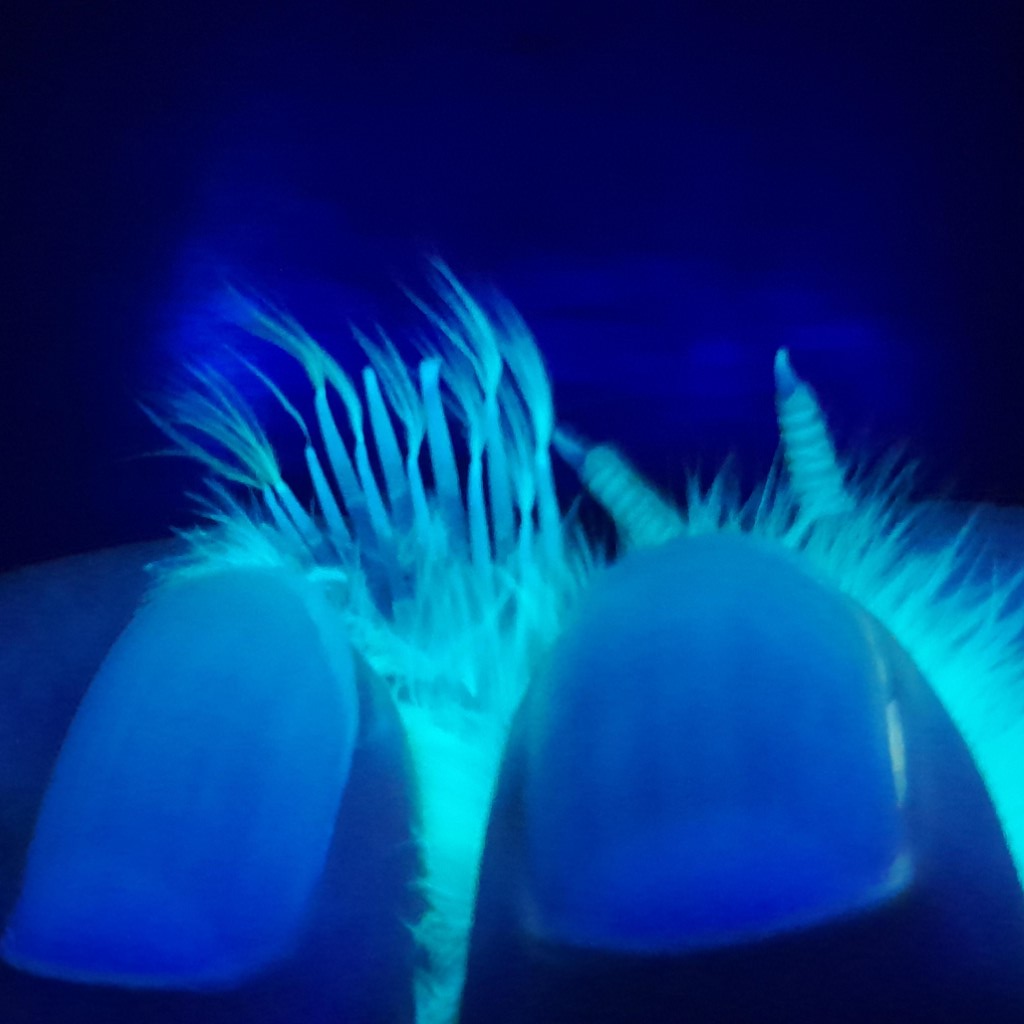female: (252, 343, 585, 672)
